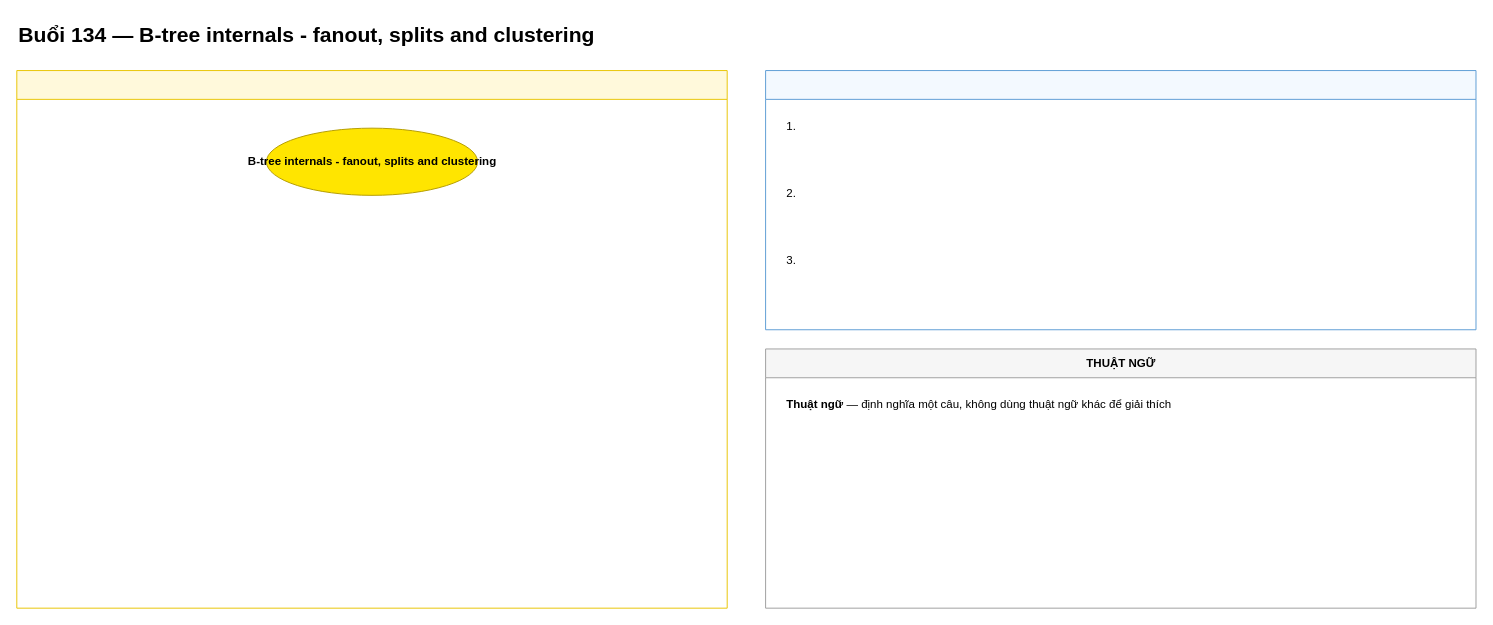
This 1493x625 diagram has some shape labels left out. Each missing label, with the box of its shape:
KEY TAKEAWAY — ba điều phải nhớ: (765, 70, 1476, 330)
MINDMAP: (16, 70, 727, 608)
